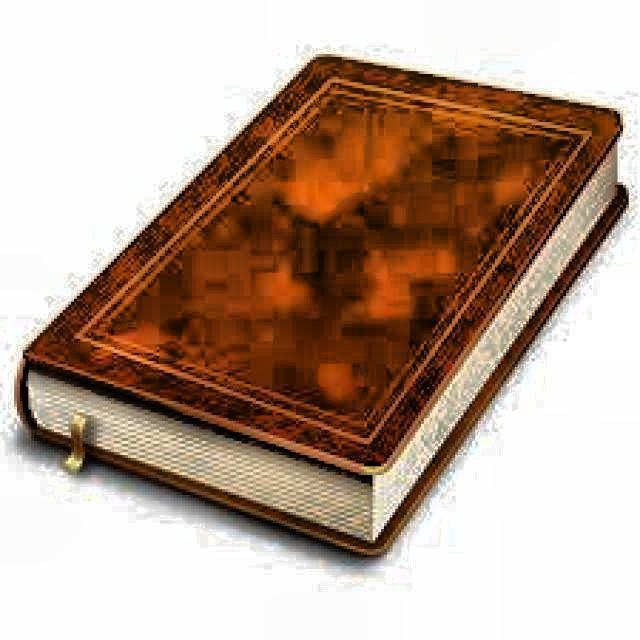cardboard: (16, 56, 627, 560)
